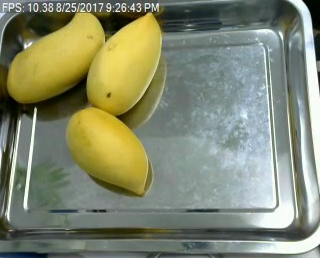Mango: (6, 6, 109, 107), (85, 11, 164, 117), (67, 106, 156, 196)
